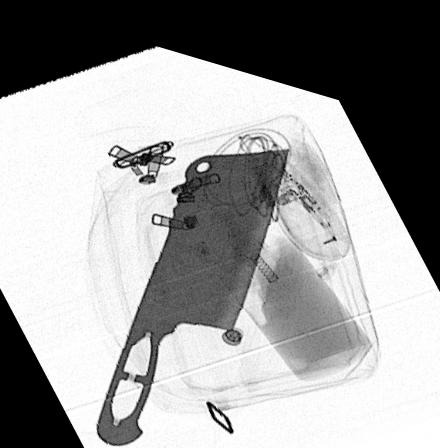Knife: (93, 129, 291, 440)
